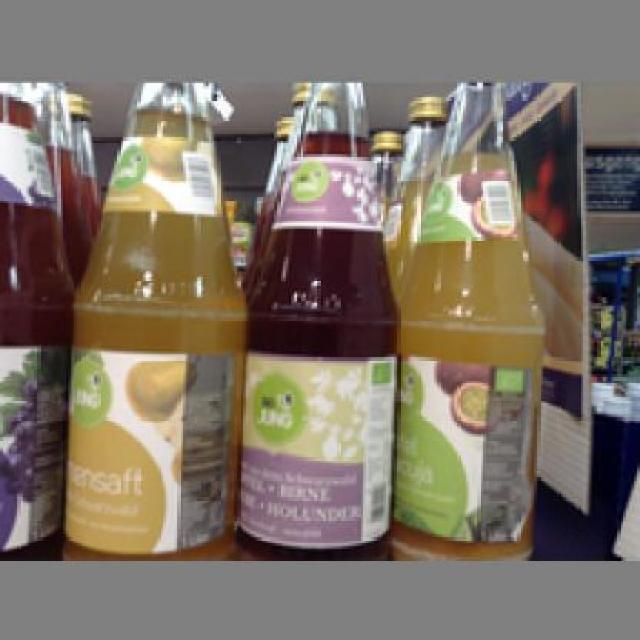Juice: (63, 79, 243, 555), (240, 79, 397, 555), (391, 79, 544, 555)
